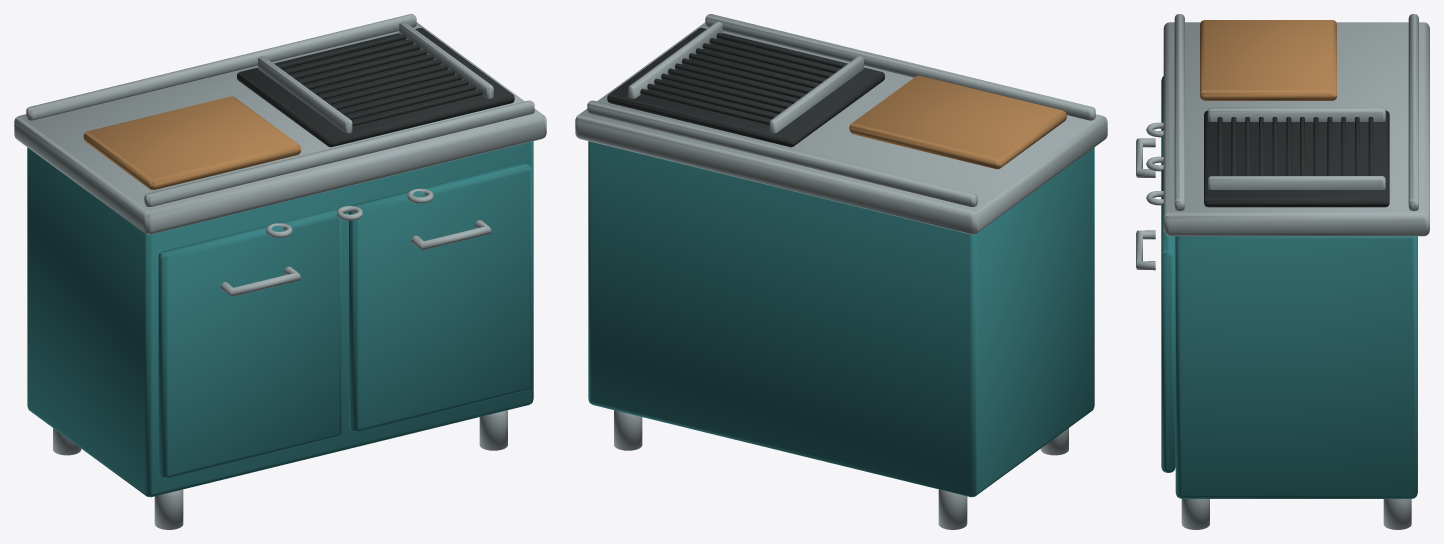
Rendered from kiosk_workbench.glb.
The picture shows the model from 3 angles, left to right: view 1: azimuth 30°, elevation 25°; view 2: azimuth 150°, elevation 25°; view 3: azimuth 270°, elevation 25°; orthographic projection.
Parts seen in each view (by area): view 1: Enamel cabinet carcass, Inset cabinet door, Inset cabinet door.001, Stainless kitchen worktop, Cutting board, Cast iron griddle, Counter rounded edge, Counter rounded edge.001, Griddle rim, Griddle rim.002, Adjustable kitchen foot, Adjustable kitchen foot.002 (+14 smaller); view 2: Enamel cabinet carcass, Stainless kitchen worktop, Cutting board, Cast iron griddle, Counter rounded edge.001, Counter rounded edge, Griddle rim, Griddle rim.002, Adjustable kitchen foot.001, Adjustable kitchen foot.003, Griddle rib.011, Griddle rib.002 (+10 smaller); view 3: Enamel cabinet carcass, Stainless kitchen worktop, Cutting board, Cast iron griddle, Inset cabinet door.001, Griddle rim.002, Griddle rim, Counter rounded edge, Counter rounded edge.001, Adjustable kitchen foot.003, Adjustable kitchen foot.002, Cabinet handle.001 (+8 smaller).
Boxes of the visible parts, x1,y1,x2,y2 form: Enamel cabinet carcass: [27, 141, 533, 497]; Inset cabinet door: [158, 210, 341, 478]; Inset cabinet door.001: [349, 163, 531, 431]; Stainless kitchen worktop: [14, 22, 546, 234]; Cutting board: [83, 96, 300, 190]; Cast iron griddle: [237, 28, 514, 147]; Counter rounded edge: [144, 100, 534, 206]; Counter rounded edge.001: [26, 14, 416, 120]; Griddle rim: [258, 56, 352, 133]; Griddle rim.002: [399, 21, 493, 98]; Adjustable kitchen foot: [154, 489, 183, 529]; Adjustable kitchen foot.002: [479, 410, 507, 450]; Enamel cabinet carcass: [588, 141, 1094, 497]; Stainless kitchen worktop: [575, 22, 1107, 234]; Cutting board: [849, 75, 1066, 169]; Cast iron griddle: [607, 28, 884, 147]; Counter rounded edge.001: [587, 100, 977, 206]; Counter rounded edge: [705, 14, 1095, 120]; Griddle rim: [769, 56, 863, 133]; Griddle rim.002: [628, 21, 722, 98]; Adjustable kitchen foot.001: [938, 489, 967, 529]; Adjustable kitchen foot.003: [614, 410, 642, 450]; Griddle rib.011: [640, 88, 770, 125]; Griddle rib.002: [702, 43, 832, 78]; Enamel cabinet carcass: [1175, 236, 1417, 498]; Stainless kitchen worktop: [1163, 22, 1429, 236]; Cutting board: [1200, 20, 1336, 100]; Cast iron griddle: [1204, 110, 1389, 207]; Inset cabinet door.001: [1161, 169, 1175, 472]; Griddle rim.002: [1208, 176, 1385, 189]; Griddle rim: [1208, 107, 1385, 121]; Counter rounded edge: [1174, 14, 1184, 210]; Counter rounded edge.001: [1408, 14, 1418, 210]; Adjustable kitchen foot.003: [1383, 499, 1411, 529]; Adjustable kitchen foot.002: [1181, 499, 1209, 529]; Cabinet handle.001: [1136, 230, 1155, 270].
Size of the model in its own units: 1.14 by 0.955 by 0.7285.
